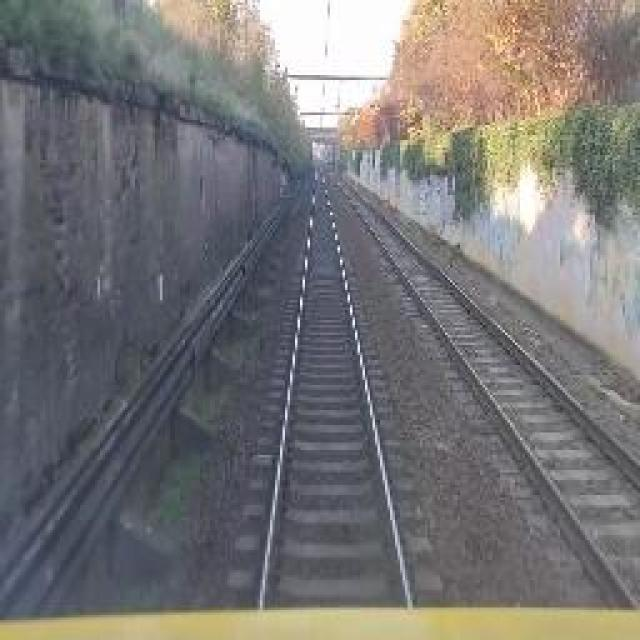rail: (226, 165, 443, 608)
